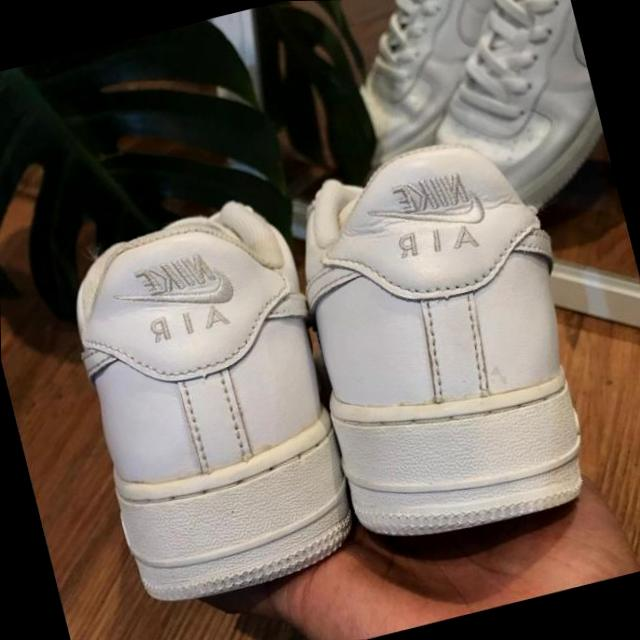nike_fake_airforce: (266, 120, 578, 414), (46, 190, 340, 473)
